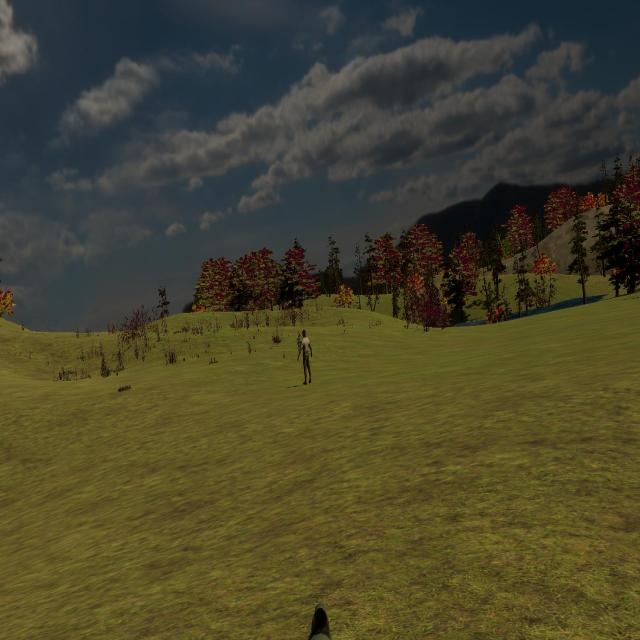person: (298, 329, 314, 383)
turret: (306, 610, 334, 639)
